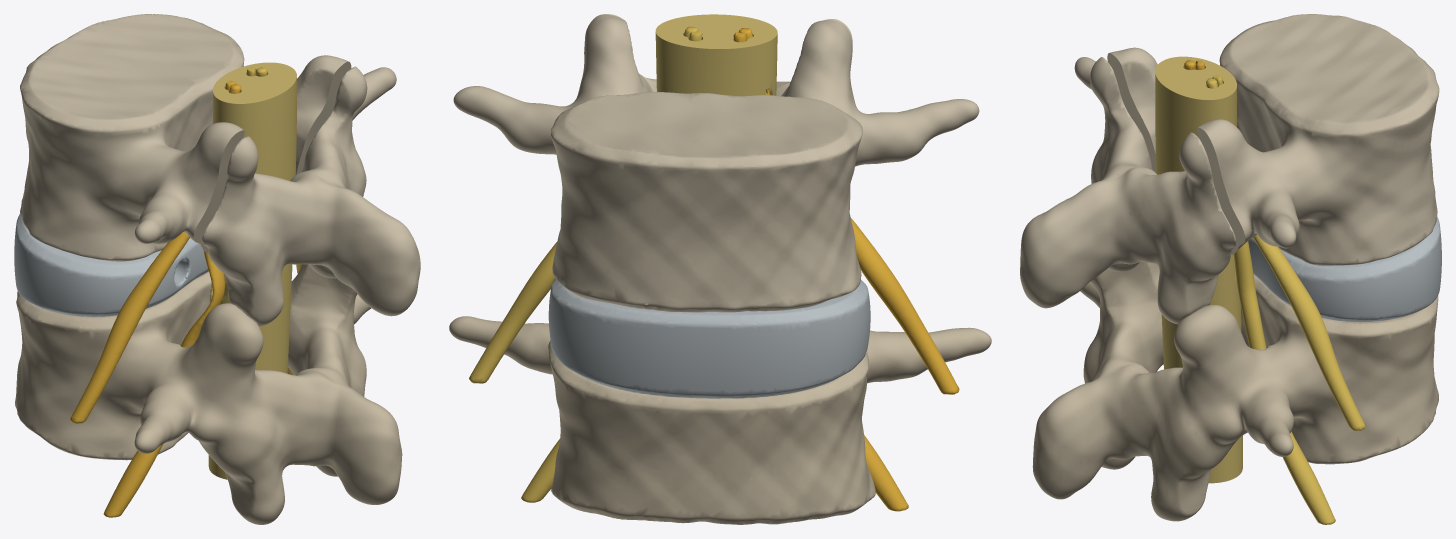
The model's file is spine_spondylolysis.glb.
3 renders of one model, left to right at view 1: azimuth 30°, elevation 25°; view 2: azimuth 150°, elevation 25°; view 3: azimuth 270°, elevation 25°, orthographic. The views are drawn at different scales.
Visible parts, largest first — view 1: l4_vertebra, l5_vertebra, annulus_fibrosus, thecal_sac, l4_nerve_root_left, l5_nerve_root_left; view 2: l4_vertebra, l5_vertebra, annulus_fibrosus, thecal_sac, nerve_roots, l4_nerve_root_left, l5_nerve_root_left; view 3: l4_vertebra, l5_vertebra, annulus_fibrosus, thecal_sac, nerve_roots.
Part boxes in pixels (box(x1,y1,x2,y2)): l4_vertebra: box(20, 14, 420, 326); l5_vertebra: box(15, 264, 402, 524); annulus_fibrosus: box(14, 214, 208, 316); thecal_sac: box(208, 62, 296, 479); l4_nerve_root_left: box(70, 84, 241, 423); l5_nerve_root_left: box(103, 80, 236, 517); l4_vertebra: box(453, 14, 979, 312); l5_vertebra: box(449, 316, 991, 524); annulus_fibrosus: box(548, 278, 870, 398); thecal_sac: box(655, 14, 777, 96); nerve_roots: box(469, 26, 702, 502); l4_nerve_root_left: box(739, 28, 959, 394); l5_nerve_root_left: box(733, 32, 908, 511); l4_vertebra: box(1020, 14, 1439, 324); l5_vertebra: box(1032, 262, 1438, 521); annulus_fibrosus: box(1248, 216, 1441, 322); thecal_sac: box(1155, 56, 1242, 483); nerve_roots: box(1206, 75, 1365, 524).
Bounding box in the file's own units: 7.95 × 7.92 × 7.36.
